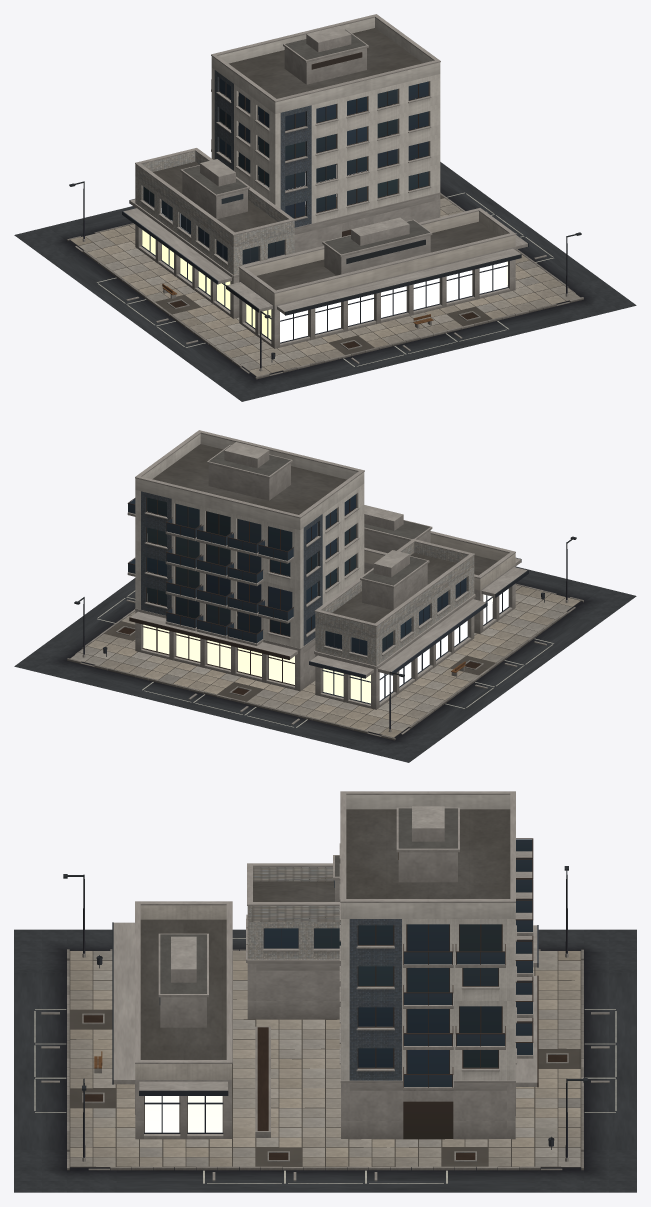
Rendered from modulo_H_lod0.glb.
The picture shows the model from 3 angles, top to bottom: view 1: azimuth 30°, elevation 25°; view 2: azimuth 150°, elevation 25°; view 3: azimuth 270°, elevation 25°; orthographic projection. The views are drawn at different scales.
Visible parts, largest first — view 1: modulo_H_lod0_tex, modulo_H_lod0_solid; view 2: modulo_H_lod0_tex, modulo_H_lod0_solid; view 3: modulo_H_lod0_tex, modulo_H_lod0_solid.
Part boxes in pixels (x1=…): modulo_H_lod0_tex: x1=14, y1=14, x2=636, y2=401; modulo_H_lod0_solid: x1=69, y1=52, x2=581, y2=368; modulo_H_lod0_tex: x1=14, y1=430, x2=636, y2=762; modulo_H_lod0_solid: x1=74, y1=494, x2=576, y2=729; modulo_H_lod0_tex: x1=14, y1=791, x2=636, y2=1192; modulo_H_lod0_solid: x1=63, y1=838, x2=587, y2=1157.
Bounding box in the file's own units: 40 × 19.21 × 40.
11 materials, 7 textured.
